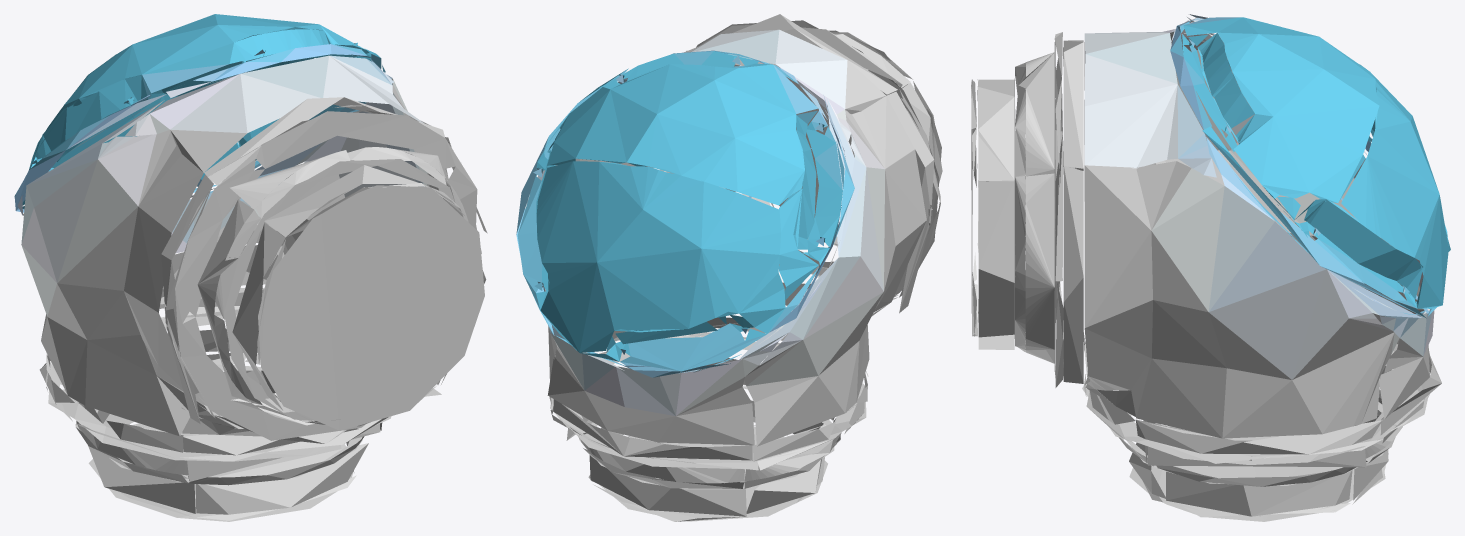
The model's file is MotomanHC10DTPLink1.dae.
3 views of the same model, side by side, from view 1: azimuth 30°, elevation 25°; view 2: azimuth 150°, elevation 25°; view 3: azimuth 270°, elevation 25° (orthographic). The views are drawn at different scales.
Visible parts, largest first — view 1: MotomanHC10DTPLink1; view 2: MotomanHC10DTPLink1; view 3: MotomanHC10DTPLink1.
Boxes of the visible parts, box(x1,y1,x2,y2) form: MotomanHC10DTPLink1: box(14, 14, 487, 521); MotomanHC10DTPLink1: box(516, 14, 942, 521); MotomanHC10DTPLink1: box(971, 14, 1450, 521).
Size of the model in its own units: 0.1972 by 0.2335 by 0.2314.
